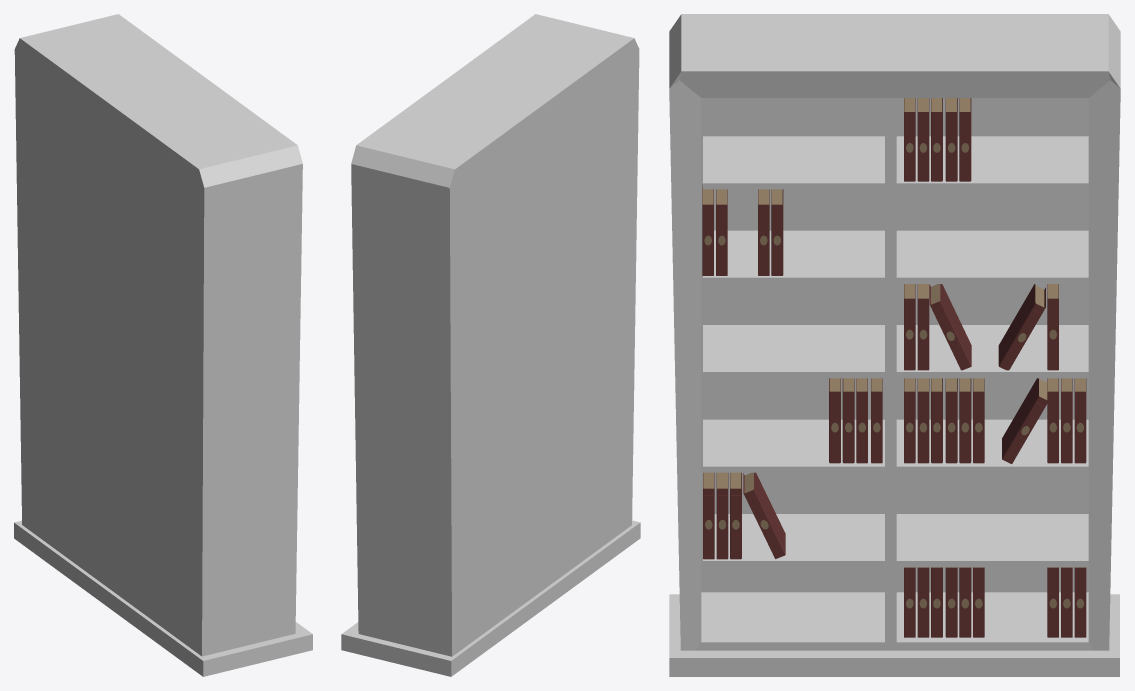
The model's file is Shelf.fbx.
3 renders of one model, left to right at view 1: azimuth 30°, elevation 25°; view 2: azimuth 150°, elevation 25°; view 3: azimuth 270°, elevation 25°, orthographic. The views are drawn at different scales.
Visible parts, largest first — view 1: ShelfCorpus; view 2: ShelfCorpus; view 3: ShelfCorpus, Shelf, Book.023, Book.018, Book.021, Book.040, Book.038, Book.031, Book.020, Book.010, Book.012, Book.017 (+31 smaller).
Boxes of the visible parts, box(x1,y1,x2,y2) form: ShelfCorpus: box(14, 14, 312, 676); ShelfCorpus: box(341, 14, 640, 676); ShelfCorpus: box(669, 14, 1120, 676); Shelf: box(703, 136, 1088, 567); Book.023: box(998, 284, 1045, 370); Book.018: box(1002, 378, 1047, 463); Book.021: box(929, 284, 971, 370); Book.040: box(743, 472, 785, 558); Book.038: box(716, 472, 728, 559); Book.031: box(771, 189, 783, 275); Book.020: box(917, 284, 929, 370); Book.010: box(917, 378, 929, 463); Book.012: box(945, 378, 957, 463); Book.017: box(1074, 378, 1086, 463).
Size of the model in its own units: 70.58 by 310 by 211.
